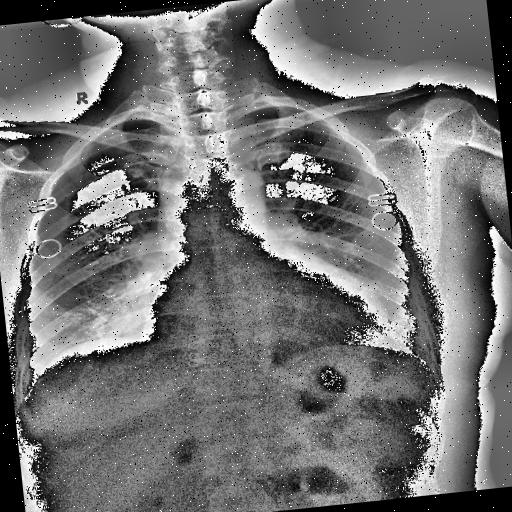3- Cardiomegaly: (126, 241, 400, 374), (132, 248, 393, 372), (135, 266, 397, 374)
